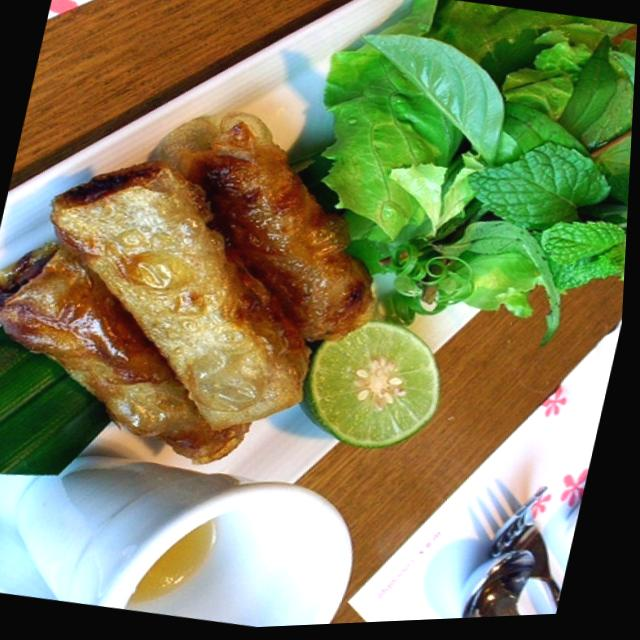炸货点心: (0, 108, 411, 491)
